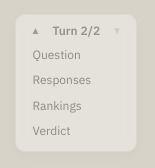
Test: StageNavigator › starts on the last turn in jsdom and moves back with the previous arrow
This screenshot has width=155, height=168.
Expected: the text "Turn 2/2" is shown, x1=52 y1=23 x2=100 y2=38
Step 1. Click the button named "Previous turn" → x=35, y=30, box x1=24 y1=24 x2=46 y2=38
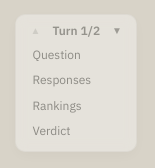
Expected: the text "Turn 1/2" is shown, x1=52 y1=23 x2=100 y2=38
